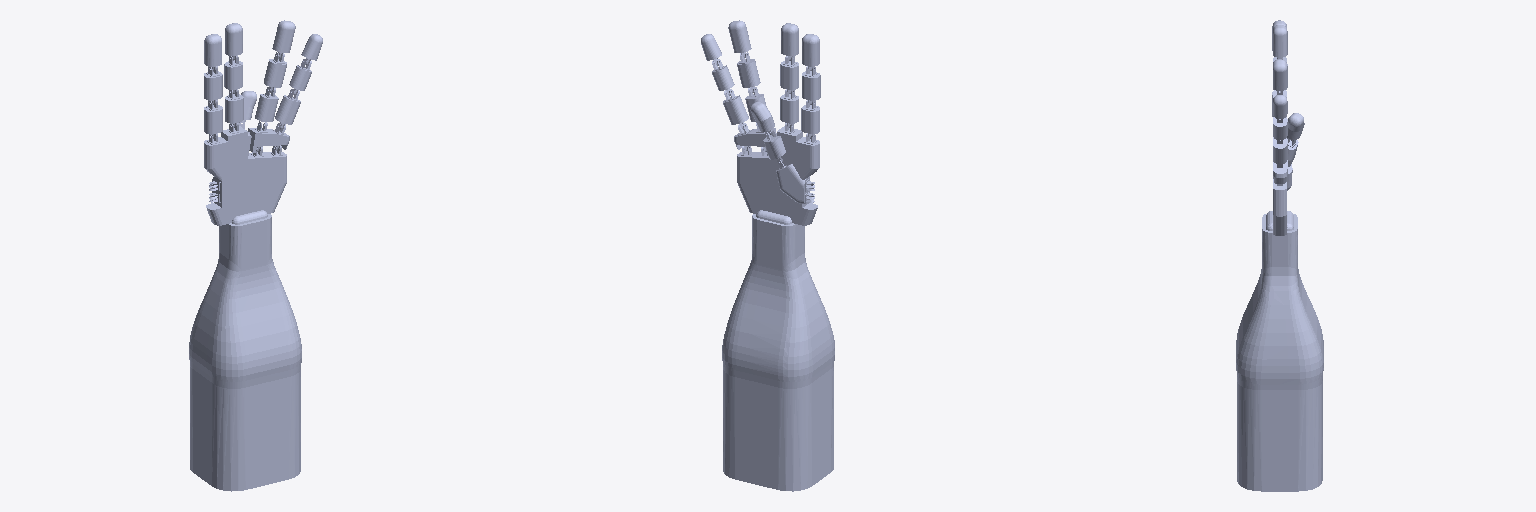
robot.urdf — simple_hand_2:
<?xml version="1.0" encoding="utf-8"?>
<!-- This URDF was automatically created by SolidWorks to URDF Exporter! Originally created by [author] ([email redacted]) 
     Commit Version: 1.6.0-1-g15f4949  Build Version: 1.6.7594.29634
     For more information, please see http://wiki.ros.org/sw_urdf_exporter -->
<robot
  name="simple_hand_2">
  <link
    name="base_link">
    <inertial>
      <origin
        xyz="-0.00188643436581484 7.91792044075344E-07 -0.0101107102609225"
        rpy="0 0 0" />
      <mass
        value="0.0547254839327602" />
      <inertia
        ixx="3.01578866609305E-05"
        ixy="2.75922512249631E-11"
        ixz="5.77313895814659E-06"
        iyy="4.6585768516949E-05"
        iyz="-3.08656421612755E-11"
        izz="1.82716186853849E-05" />
    </inertial>
    <visual>
      <origin
        xyz="0 0 0"
        rpy="0 0 0" />
      <geometry>
        <mesh
          filename="package://simple_hand_2/meshes/base_link.STL" />
      </geometry>
      <material
        name="">
        <color
          rgba="0.792156862745098 0.819607843137255 0.933333333333333 1" />
      </material>
    </visual>
    <collision>
      <origin
        xyz="0 0 0"
        rpy="0 0 0" />
      <geometry>
        <mesh
          filename="package://simple_hand_2/meshes/base_link.STL" />
      </geometry>
    </collision>
  </link>
  <link
    name="thumb_1">
    <inertial>
      <origin
        xyz="0.0048085282615066 0.0155683292090754 -9.38862231650911E-05"
        rpy="0 0 0" />
      <mass
        value="0.00714658380829061" />
      <inertia
        ixx="3.26626039983406E-07"
        ixy="9.21851511766135E-08"
        ixz="7.28401970577256E-11"
        iyy="4.93450737768554E-07"
        iyz="1.16674127798381E-10"
        izz="6.67805464749945E-07" />
    </inertial>
    <visual>
      <origin
        xyz="0 0 0"
        rpy="0 0 0" />
      <geometry>
        <mesh
          filename="package://simple_hand_2/meshes/thumb_1.STL" />
      </geometry>
      <material
        name="">
        <color
          rgba="0.792156862745098 0.819607843137255 0.933333333333333 1" />
      </material>
    </visual>
    <collision>
      <origin
        xyz="0 0 0"
        rpy="0 0 0" />
      <geometry>
        <mesh
          filename="package://simple_hand_2/meshes/thumb_1.STL" />
      </geometry>
    </collision>
  </link>
  <joint
    name="thumb_palm"
    type="continuous">
    <origin
      xyz="-0.031 -0.0001 0"
      rpy="1.3963 1.5708 0" />
    <parent
      link="base_link" />
    <child
      link="thumb_1" />
    <axis
      xyz="1 0 0" />
  </joint>
  <link
    name="thumb_2">
    <inertial>
      <origin
        xyz="-0.0580525842144154 0.0245170365772043 0.00600212157284601"
        rpy="0 0 0" />
      <mass
        value="0.00309410697808253" />
      <inertia
        ixx="9.86716393307872E-08"
        ixy="-6.58381417150374E-09"
        ixz="4.76941858010113E-11"
        iyy="8.17761446626134E-08"
        iyz="1.44734613015972E-11"
        izz="1.17680540570393E-07" />
    </inertial>
    <visual>
      <origin
        xyz="0 0 0"
        rpy="0 0 0" />
      <geometry>
        <mesh
          filename="package://simple_hand_2/meshes/thumb_2.STL" />
      </geometry>
      <material
        name="">
        <color
          rgba="0.792156862745098 0.819607843137255 0.933333333333333 1" />
      </material>
    </visual>
    <collision>
      <origin
        xyz="0 0 0"
        rpy="0 0 0" />
      <geometry>
        <mesh
          filename="package://simple_hand_2/meshes/thumb_2.STL" />
      </geometry>
    </collision>
  </link>
  <joint
    name="thumb_12"
    type="continuous">
    <origin
      xyz="0.00074168 -0.025588 -0.0138"
      rpy="-2.8356 0.43178 -1.5075" />
    <parent
      link="thumb_1" />
    <child
      link="thumb_2" />
    <axis
      xyz="1 0 0" />
  </joint>
  <link
    name="thumb_3">
    <inertial>
      <origin
        xyz="-0.0683569874934218 0.0647531465127786 0.00599440013402116"
        rpy="0 0 0" />
      <mass
        value="0.00324861748801509" />
      <inertia
        ixx="1.31829885963988E-07"
        ixy="2.37227938008642E-08"
        ixz="1.16060719332412E-12"
        iyy="8.56030195353302E-08"
        iyz="9.31995554639708E-13"
        izz="1.54481533062546E-07" />
    </inertial>
    <visual>
      <origin
        xyz="0 0 0"
        rpy="0 0 0" />
      <geometry>
        <mesh
          filename="package://simple_hand_2/meshes/thumb_3.STL" />
      </geometry>
      <material
        name="">
        <color
          rgba="0.792156862745098 0.819607843137255 0.933333333333333 1" />
      </material>
    </visual>
    <collision>
      <origin
        xyz="0 0 0"
        rpy="0 0 0" />
      <geometry>
        <mesh
          filename="package://simple_hand_2/meshes/thumb_3.STL" />
      </geometry>
    </collision>
  </link>
  <joint
    name="thumb_23"
    type="continuous">
    <origin
      xyz="0.010488 -0.0027249 0.0098784"
      rpy="0.031976 -0.17161 0.12773" />
    <parent
      link="thumb_2" />
    <child
      link="thumb_3" />
    <axis
      xyz="1 0 0" />
  </joint>
  <link
    name="index_1">
    <inertial>
      <origin
        xyz="0.000100909995287481 0.0101314105773068 -0.00308812397054953"
        rpy="0 0 0" />
      <mass
        value="0.00331457639559618" />
      <inertia
        ixx="1.2323138903352E-07"
        ixy="-6.25963302176875E-22"
        ixz="5.10019588239712E-22"
        iyy="8.32166997991831E-08"
        iyz="-2.40399965955461E-20"
        izz="1.40564829901929E-07" />
    </inertial>
    <visual>
      <origin
        xyz="0 0 0"
        rpy="0 0 0" />
      <geometry>
        <mesh
          filename="package://simple_hand_2/meshes/index_1.STL" />
      </geometry>
      <material
        name="">
        <color
          rgba="0.792156862745098 0.819607843137255 0.933333333333333 1" />
      </material>
    </visual>
    <collision>
      <origin
        xyz="0 0 0"
        rpy="0 0 0" />
      <geometry>
        <mesh
          filename="package://simple_hand_2/meshes/index_1.STL" />
      </geometry>
    </collision>
  </link>
  <joint
    name="index_palm"
    type="continuous">
    <origin
      xyz="-0.0299 0.0029 0.043"
      rpy="1.5708 0 3.1416" />
    <parent
      link="base_link" />
    <child
      link="index_1" />
    <axis
      xyz="-1 0 0" />
  </joint>
  <link
    name="index_2">
    <inertial>
      <origin
        xyz="8.81239705526511E-05 0.0101314105773068 -0.00291187602944456"
        rpy="0 0 0" />
      <mass
        value="0.00331457639559618" />
      <inertia
        ixx="1.2323138903352E-07"
        ixy="-6.31603140027893E-22"
        ixz="5.08654045052711E-22"
        iyy="8.32166997991831E-08"
        iyz="-2.3986539712562E-20"
        izz="1.40564829901929E-07" />
    </inertial>
    <visual>
      <origin
        xyz="0 0 0"
        rpy="0 0 0" />
      <geometry>
        <mesh
          filename="package://simple_hand_2/meshes/index_2.STL" />
      </geometry>
      <material
        name="">
        <color
          rgba="0.792156862745098 0.819607843137255 0.933333333333333 1" />
      </material>
    </visual>
    <collision>
      <origin
        xyz="0 0 0"
        rpy="0 0 0" />
      <geometry>
        <mesh
          filename="package://simple_hand_2/meshes/index_2.STL" />
      </geometry>
    </collision>
  </link>
  <joint
    name="index_12"
    type="continuous">
    <origin
      xyz="0.0002 0.03 0"
      rpy="0 0 0" />
    <parent
      link="index_1" />
    <child
      link="index_2" />
    <axis
      xyz="1 0 0" />
  </joint>
  <link
    name="index_3">
    <inertial>
      <origin
        xyz="-9.48443246826212E-05 0.0116226051015443 -0.00309484432468262"
        rpy="0 0 0" />
      <mass
        value="0.00352502395351663" />
      <inertia
        ixx="1.85717997302154E-07"
        ixy="-1.99224311388662E-23"
        ixz="-3.7181621830391E-24"
        iyy="8.01006878176001E-08"
        iyz="-4.00691042258123E-23"
        izz="1.97300854531169E-07" />
    </inertial>
    <visual>
      <origin
        xyz="0 0 0"
        rpy="0 0 0" />
      <geometry>
        <mesh
          filename="package://simple_hand_2/meshes/index_3.STL" />
      </geometry>
      <material
        name="">
        <color
          rgba="0.792156862745098 0.819607843137255 0.933333333333333 1" />
      </material>
    </visual>
    <collision>
      <origin
        xyz="0 0 0"
        rpy="0 0 0" />
      <geometry>
        <mesh
          filename="package://simple_hand_2/meshes/index_3.STL" />
      </geometry>
    </collision>
  </link>
  <joint
    name="index_23"
    type="fixed">
    <origin
      xyz="0 0.03 0"
      rpy="0 0 0" />
    <parent
      link="index_2" />
    <child
      link="index_3" />
    <axis
      xyz="0 0 0" />
  </joint>
  <link
    name="middle_1">
    <inertial>
      <origin
        xyz="-0.0075009099952875 8.81239705495927E-05 -0.0146314105773068"
        rpy="0 0 0" />
      <mass
        value="0.00331457639559618" />
      <inertia
        ixx="1.2323138903352E-07"
        ixy="5.10801247889187E-22"
        ixz="-6.3746455157721E-22"
        iyy="1.40564829901929E-07"
        iyz="-2.41810386122092E-20"
        izz="8.32166997991832E-08" />
    </inertial>
    <visual>
      <origin
        xyz="0 0 0"
        rpy="0 0 0" />
      <geometry>
        <mesh
          filename="package://simple_hand_2/meshes/middle_1.STL" />
      </geometry>
      <material
        name="">
        <color
          rgba="0.792156862745098 0.819607843137255 0.933333333333333 1" />
      </material>
    </visual>
    <collision>
      <origin
        xyz="0 0 0"
        rpy="0 0 0" />
      <geometry>
        <mesh
          filename="package://simple_hand_2/meshes/middle_1.STL" />
      </geometry>
    </collision>
  </link>
  <joint
    name="middle_palm"
    type="continuous">
    <origin
      xyz="-0.003 0.000100000000000004 0.0435"
      rpy="-3.14159265358979 0 0" />
    <parent
      link="base_link" />
    <child
      link="middle_1" />
    <axis
      xyz="1 0 0" />
  </joint>
  <link
    name="middle_2">
    <inertial>
      <origin
        xyz="0.000100909995287477 -0.0491314105773069 -0.0330881239705554"
        rpy="0 0 0" />
      <mass
        value="0.00331457639559618" />
      <inertia
        ixx="1.2323138903352E-07"
        ixy="6.09867234555869E-22"
        ixz="-5.09255366438186E-22"
        iyy="8.32166997991831E-08"
        iyz="-2.4011489069115E-20"
        izz="1.40564829901928E-07" />
    </inertial>
    <visual>
      <origin
        xyz="0 0 0"
        rpy="0 0 0" />
      <geometry>
        <mesh
          filename="package://simple_hand_2/meshes/middle_2.STL" />
      </geometry>
      <material
        name="">
        <color
          rgba="0.792156862745098 0.819607843137255 0.933333333333333 1" />
      </material>
    </visual>
    <collision>
      <origin
        xyz="0 0 0"
        rpy="0 0 0" />
      <geometry>
        <mesh
          filename="package://simple_hand_2/meshes/middle_2.STL" />
      </geometry>
    </collision>
  </link>
  <joint
    name="middle_12"
    type="continuous">
    <origin
      xyz="-0.0076 0.033 0.0045"
      rpy="1.5708 0 3.1416" />
    <parent
      link="middle_1" />
    <child
      link="middle_2" />
    <axis
      xyz="1 0 0" />
  </joint>
  <link
    name="middle_3">
    <inertial>
      <origin
        xyz="-9.48443246825987E-05 -0.110622605101544 -0.0330948443246824"
        rpy="0 0 0" />
      <mass
        value="0.00352502395351662" />
      <inertia
        ixx="1.85717997302153E-07"
        ixy="5.55896476099517E-23"
        ixz="1.76231881583275E-23"
        iyy="8.01006878176E-08"
        iyz="5.01247558570527E-23"
        izz="1.97300854531168E-07" />
    </inertial>
    <visual>
      <origin
        xyz="0 0 0"
        rpy="0 0 0" />
      <geometry>
        <mesh
          filename="package://simple_hand_2/meshes/middle_3.STL" />
      </geometry>
      <material
        name="">
        <color
          rgba="0.792156862745098 0.819607843137255 0.933333333333333 1" />
      </material>
    </visual>
    <collision>
      <origin
        xyz="0 0 0"
        rpy="0 0 0" />
      <geometry>
        <mesh
          filename="package://simple_hand_2/meshes/middle_3.STL" />
      </geometry>
    </collision>
  </link>
  <joint
    name="middle_23"
    type="fixed">
    <origin
      xyz="0.0002 0.03 0"
      rpy="0 0 0" />
    <parent
      link="middle_2" />
    <child
      link="middle_3" />
    <axis
      xyz="0 0 0" />
  </joint>
  <link
    name="ring_pink_palm">
    <inertial>
      <origin
        xyz="0.0170207672540449 0.00634175647982317 -8.33728651589362E-05"
        rpy="0 0 0" />
      <mass
        value="0.00474638182867952" />
      <inertia
        ixx="1.24617700851684E-07"
        ixy="8.08014945109771E-08"
        ixz="-3.25122701376156E-12"
        iyy="4.61877650491779E-07"
        iyz="1.81183357334928E-12"
        izz="4.81107731413793E-07" />
    </inertial>
    <visual>
      <origin
        xyz="0 0 0"
        rpy="0 0 0" />
      <geometry>
        <mesh
          filename="package://simple_hand_2/meshes/ring_pink_palm.STL" />
      </geometry>
      <material
        name="">
        <color
          rgba="0.792156862745098 0.819607843137255 0.933333333333333 1" />
      </material>
    </visual>
    <collision>
      <origin
        xyz="0 0 0"
        rpy="0 0 0" />
      <geometry>
        <mesh
          filename="package://simple_hand_2/meshes/ring_pink_palm.STL" />
      </geometry>
    </collision>
  </link>
  <joint
    name="rp_palm"
    type="continuous">
    <origin
      xyz="0.0032512 0.0001 0.018439"
      rpy="1.5708 0 0" />
    <parent
      link="base_link" />
    <child
      link="ring_pink_palm" />
    <axis
      xyz="0.98481 -0.17365 0" />
  </joint>
  <link
    name="ring_1">
    <inertial>
      <origin
        xyz="8.73292782364032E-05 -0.0209311545992939 0.00308732927822884"
        rpy="0 0 0" />
      <mass
        value="0.00334473888459068" />
      <inertia
        ixx="1.23940526073648E-07"
        ixy="1.16797902492488E-21"
        ixz="-1.0531057297454E-21"
        iyy="8.36234289464328E-08"
        iyz="-4.91864785874036E-20"
        izz="1.41586346370184E-07" />
    </inertial>
    <visual>
      <origin
        xyz="0 0 0"
        rpy="0 0 0" />
      <geometry>
        <mesh
          filename="package://simple_hand_2/meshes/ring_1.STL" />
      </geometry>
      <material
        name="">
        <color
          rgba="0.792156862745098 0.819607843137255 0.933333333333333 1" />
      </material>
    </visual>
    <collision>
      <origin
        xyz="0 0 0"
        rpy="0 0 0" />
      <geometry>
        <mesh
          filename="package://simple_hand_2/meshes/ring_1.STL" />
      </geometry>
    </collision>
  </link>
  <joint
    name="ring1_rp_palm"
    type="continuous">
    <origin
      xyz="0.011215 0.012454 -0.003"
      rpy="0 0 2.8798" />
    <parent
      link="ring_pink_palm" />
    <child
      link="ring_1" />
    <axis
      xyz="1 0 0" />
  </joint>
  <link
    name="ring_2">
    <inertial>
      <origin
        xyz="0.00010090999528985 -0.0426886524241691 0.0169749492455598"
        rpy="0 0 0" />
      <mass
        value="0.00331457639559613" />
      <inertia
        ixx="1.2323138903352E-07"
        ixy="-4.75356350150911E-22"
        ixz="-7.08881276752877E-22"
        iyy="8.8028771725466E-08"
        iyz="-1.58999148006687E-08"
        izz="1.35752757975645E-07" />
    </inertial>
    <visual>
      <origin
        xyz="0 0 0"
        rpy="0 0 0" />
      <geometry>
        <mesh
          filename="package://simple_hand_2/meshes/ring_2.STL" />
      </geometry>
      <material
        name="">
        <color
          rgba="0.792156862745098 0.819607843137255 0.933333333333333 1" />
      </material>
    </visual>
    <collision>
      <origin
        xyz="0 0 0"
        rpy="0 0 0" />
      <geometry>
        <mesh
          filename="package://simple_hand_2/meshes/ring_2.STL" />
      </geometry>
    </collision>
  </link>
  <joint
    name="ring_12"
    type="continuous">
    <origin
      xyz="0 -0.01569 0.031714"
      rpy="2.8477 0 3.1416" />
    <parent
      link="ring_1" />
    <child
      link="ring_2" />
    <axis
      xyz="1 0 0" />
  </joint>
  <link
    name="ring_3">
    <inertial>
      <origin
        xyz="0.00029484432468546 -0.102828463435009 0.00764877026309346"
        rpy="0 0 0" />
      <mass
        value="0.00352502395351663" />
      <inertia
        ixx="1.85717997302152E-07"
        ixy="-7.91980234167709E-23"
        ixz="-4.33876445657651E-23"
        iyy="8.99349340430514E-08"
        iyz="-3.24940440435221E-08"
        izz="1.87466608305716E-07" />
    </inertial>
    <visual>
      <origin
        xyz="0 0 0"
        rpy="0 0 0" />
      <geometry>
        <mesh
          filename="package://simple_hand_2/meshes/ring_3.STL" />
      </geometry>
      <material
        name="">
        <color
          rgba="0.792156862745098 0.819607843137255 0.933333333333333 1" />
      </material>
    </visual>
    <collision>
      <origin
        xyz="0 0 0"
        rpy="0 0 0" />
      <geometry>
        <mesh
          filename="package://simple_hand_2/meshes/ring_3.STL" />
      </geometry>
    </collision>
  </link>
  <joint
    name="ring_23"
    type="fixed">
    <origin
      xyz="0 0.03 0.0002"
      rpy="0 0 0" />
    <parent
      link="ring_2" />
    <child
      link="ring_3" />
    <axis
      xyz="0 0 0" />
    <limit
      lower="-1.5708"
      upper="0"
      effort="0"
      velocity="0" />
  </joint>
  <link
    name="pinky_1">
    <inertial>
      <origin
        xyz="0.000100909995289757 0.0101314105773062 -0.00289909000470925"
        rpy="0 0 0" />
      <mass
        value="0.00331457639559618" />
      <inertia
        ixx="1.2323138903352E-07"
        ixy="-6.25348543090089E-22"
        ixz="5.09918288209813E-22"
        iyy="8.32166997991832E-08"
        iyz="-2.40511916377306E-20"
        izz="1.40564829901929E-07" />
    </inertial>
    <visual>
      <origin
        xyz="0 0 0"
        rpy="0 0 0" />
      <geometry>
        <mesh
          filename="package://simple_hand_2/meshes/pinky_1.STL" />
      </geometry>
      <material
        name="">
        <color
          rgba="0.792156862745098 0.819607843137255 0.933333333333333 1" />
      </material>
    </visual>
    <collision>
      <origin
        xyz="0 0 0"
        rpy="0 0 0" />
      <geometry>
        <mesh
          filename="package://simple_hand_2/meshes/pinky_1.STL" />
      </geometry>
    </collision>
  </link>
  <joint
    name="pinky1_rp_palm"
    type="continuous">
    <origin
      xyz="0.032286 0.01746 -0.003"
      rpy="-3.1416 0 2.7053" />
    <parent
      link="ring_pink_palm" />
    <child
      link="pinky_1" />
    <axis
      xyz="1 0 0" />
  </joint>
  <link
    name="pinky_2">
    <inertial>
      <origin
        xyz="-0.000116192802976579 0.0129292550716577 8.38071970190243E-05"
        rpy="0 0 0" />
      <mass
        value="0.00243095694657695" />
      <inertia
        ixx="6.85523277747313E-08"
        ixy="6.99794798219861E-22"
        ixz="5.30375999095151E-22"
        iyy="5.02538415032839E-08"
        iyz="2.4009285103902E-20"
        izz="7.24913923580197E-08" />
    </inertial>
    <visual>
      <origin
        xyz="0 0 0"
        rpy="0 0 0" />
      <geometry>
        <mesh
          filename="package://simple_hand_2/meshes/pinky_2.STL" />
      </geometry>
      <material
        name="">
        <color
          rgba="0.792156862745098 0.819607843137255 0.933333333333333 1" />
      </material>
    </visual>
    <collision>
      <origin
        xyz="0 0 0"
        rpy="0 0 0" />
      <geometry>
        <mesh
          filename="package://simple_hand_2/meshes/pinky_2.STL" />
      </geometry>
    </collision>
  </link>
  <joint
    name="pinky_12"
    type="continuous">
    <origin
      xyz="0 0.0255 -0.0028"
      rpy="-3.1416 0 3.1416" />
    <parent
      link="pinky_1" />
    <child
      link="pinky_2" />
    <axis
      xyz="1 0 0" />
  </joint>
  <link
    name="pinky_3">
    <inertial>
      <origin
        xyz="-0.000108084267458654 0.0130882404924846 9.19326081197115E-05"
        rpy="0 0 0" />
      <mass
        value="0.00224742035804122" />
      <inertia
        ixx="7.84638438602707E-08"
        ixy="7.56151801184459E-15"
        ixz="-1.75519852388493E-12"
        iyy="4.07217895790235E-08"
        iyz="6.27007155808155E-14"
        izz="7.77279503022204E-08" />
    </inertial>
    <visual>
      <origin
        xyz="0 0 0"
        rpy="0 0 0" />
      <geometry>
        <mesh
          filename="package://simple_hand_2/meshes/pinky_3.STL" />
      </geometry>
      <material
        name="">
        <color
          rgba="0.792156862745098 0.819607843137255 0.933333333333333 1" />
      </material>
    </visual>
    <collision>
      <origin
        xyz="0 0 0"
        rpy="0 0 0" />
      <geometry>
        <mesh
          filename="package://simple_hand_2/meshes/pinky_3.STL" />
      </geometry>
    </collision>
  </link>
  <joint
    name="pinky_23"
    type="fixed">
    <origin
      xyz="0 0.02675 0"
      rpy="0 0 0" />
    <parent
      link="pinky_2" />
    <child
      link="pinky_3" />
    <axis
      xyz="0 0 0" />
    <limit
      lower="-1.5708"
      upper="0"
      effort="0"
      velocity="0" />
  </joint>
</robot>

--- Render facts (derived) ---
The picture shows the robot from 3 angles, left to right: view 1: azimuth 30°, elevation 25°; view 2: azimuth 150°, elevation 25°; view 3: azimuth 270°, elevation 25°; orthographic projection.
Model simple_hand_2 with 17 links and 16 joints (12 continuous, 4 fixed), rooted at base_link, posed every joint at zero.
Visible links, largest first — view 1: base_link, ring_pink_palm, pinky_1, ring_2, index_1, index_2, middle_2, ring_3, middle_1, middle_3, ring_1, index_3; view 2: base_link, thumb_1, pinky_1, ring_2, ring_pink_palm, index_2, middle_1, middle_2, ring_3, middle_3, index_1, index_3; view 3: base_link.
Boxes of the visible links, bbox=[...] form: base_link: bbox=[189, 123, 301, 491]; ring_pink_palm: bbox=[248, 121, 289, 152]; pinky_1: bbox=[275, 89, 300, 129]; ring_2: bbox=[264, 52, 286, 92]; index_1: bbox=[204, 100, 222, 138]; index_2: bbox=[204, 66, 222, 104]; middle_2: bbox=[224, 55, 242, 93]; ring_3: bbox=[272, 20, 295, 58]; middle_1: bbox=[225, 89, 243, 127]; middle_3: bbox=[225, 23, 242, 60]; ring_1: bbox=[255, 87, 278, 130]; index_3: bbox=[204, 34, 221, 71]; base_link: bbox=[722, 123, 834, 491]; thumb_1: bbox=[776, 160, 814, 203]; pinky_1: bbox=[723, 89, 748, 129]; ring_2: bbox=[737, 52, 760, 92]; ring_pink_palm: bbox=[734, 123, 775, 151]; index_2: bbox=[802, 66, 820, 104]; middle_1: bbox=[780, 89, 798, 127]; middle_2: bbox=[780, 56, 798, 93]; ring_3: bbox=[728, 20, 751, 57]; middle_3: bbox=[781, 23, 798, 60]; index_1: bbox=[801, 100, 819, 138]; index_3: bbox=[802, 34, 819, 70]; base_link: bbox=[1236, 179, 1323, 491].
Bounding box of the posed robot: 0.1118 × 0.0721 × 0.398 m (x, y, z).
17 mesh visuals loaded from 17 distinct referenced files (17 binary STL).